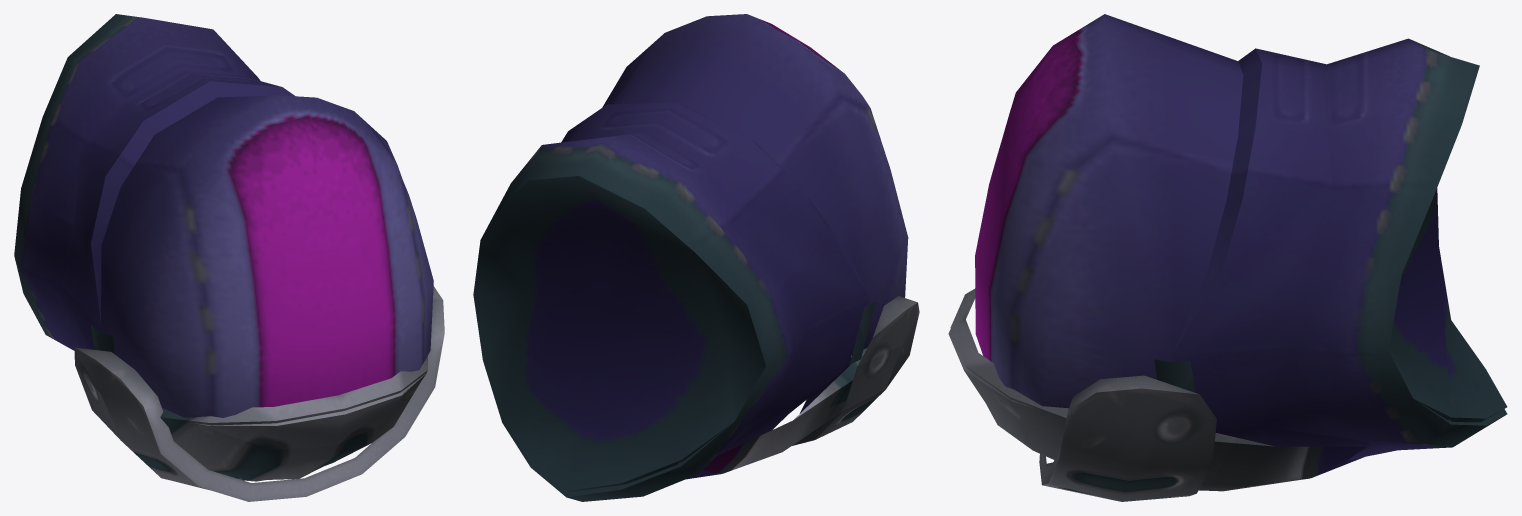
File: Stalker Helm.glb
The picture shows the model from 3 angles, left to right: view 1: azimuth 30°, elevation 25°; view 2: azimuth 150°, elevation 25°; view 3: azimuth 270°, elevation 25°; orthographic projection. The views are drawn at different scales.
Parts seen in each view (by area): view 1: shroud.model-MeshSets[mesh_stalker_1].Mesh[0], shroud.model-MeshSets[mesh_stalker_2].Mesh[0], shroud.model-MeshSets[mesh_stalker_3].Mesh[0]; view 2: shroud.model-MeshSets[mesh_stalker_1].Mesh[0], shroud.model-MeshSets[mesh_stalker_2].Mesh[0], shroud.model-MeshSets[mesh_stalker_3].Mesh[0]; view 3: shroud.model-MeshSets[mesh_stalker_1].Mesh[0], shroud.model-MeshSets[mesh_stalker_2].Mesh[0], shroud.model-MeshSets[mesh_stalker_3].Mesh[0].
Boxes of the visible parts, x1,y1,x2,y2 form: shroud.model-MeshSets[mesh_stalker_1].Mesh[0]: (14, 14, 444, 501); shroud.model-MeshSets[mesh_stalker_2].Mesh[0]: (21, 70, 426, 480); shroud.model-MeshSets[mesh_stalker_3].Mesh[0]: (160, 356, 427, 481); shroud.model-MeshSets[mesh_stalker_1].Mesh[0]: (473, 14, 919, 501); shroud.model-MeshSets[mesh_stalker_2].Mesh[0]: (483, 102, 875, 491); shroud.model-MeshSets[mesh_stalker_3].Mesh[0]: (686, 347, 867, 479); shroud.model-MeshSets[mesh_stalker_1].Mesh[0]: (975, 14, 1507, 501); shroud.model-MeshSets[mesh_stalker_2].Mesh[0]: (948, 48, 1507, 442); shroud.model-MeshSets[mesh_stalker_3].Mesh[0]: (950, 288, 1368, 491).
Bounding box in the file's own units: 0.506 × 0.5719 × 0.6362.
1 material, 1 textured.
